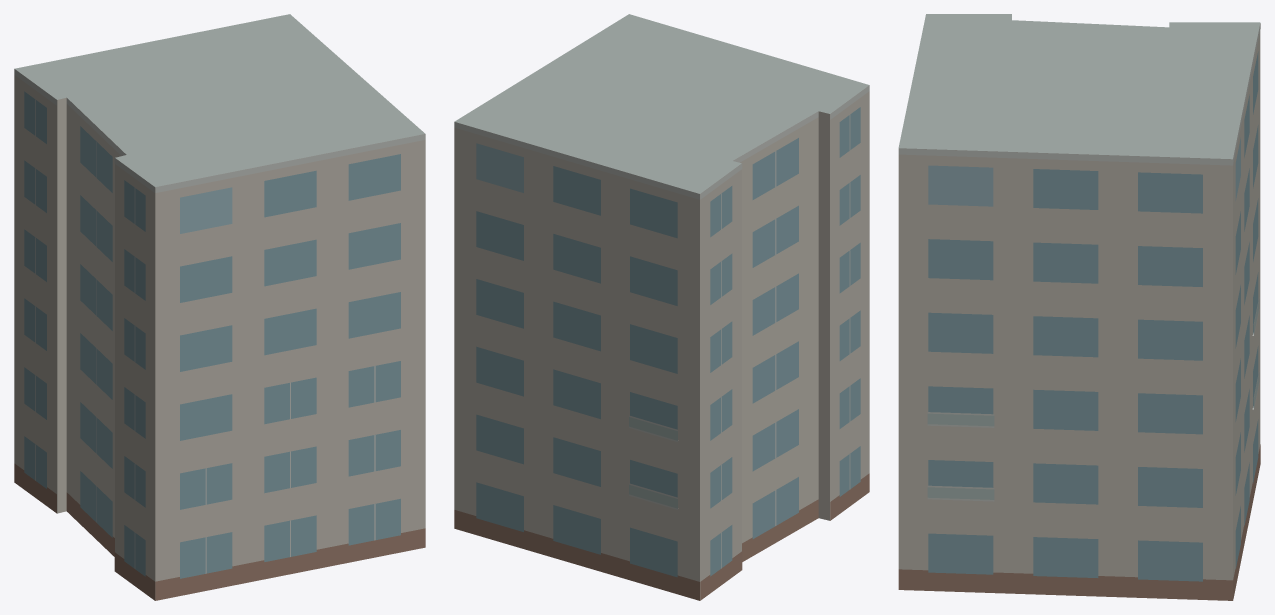
File: survey-upis-32658189.glb
3 renders of one model, left to right at view 1: azimuth 30°, elevation 25°; view 2: azimuth 150°, elevation 25°; view 3: azimuth 270°, elevation 25°, orthographic. The views are drawn at different scales.
Parts seen in each view (by area): view 1: survey-upis-32658189.tmp; view 2: survey-upis-32658189.tmp; view 3: survey-upis-32658189.tmp.
Boxes of the visible parts, x1,y1,x2,y2 form: survey-upis-32658189.tmp: (14, 14, 425, 600); survey-upis-32658189.tmp: (454, 14, 869, 600); survey-upis-32658189.tmp: (898, 14, 1260, 600).
Size of the model in its own units: 11.93 by 16.9 by 12.56.
